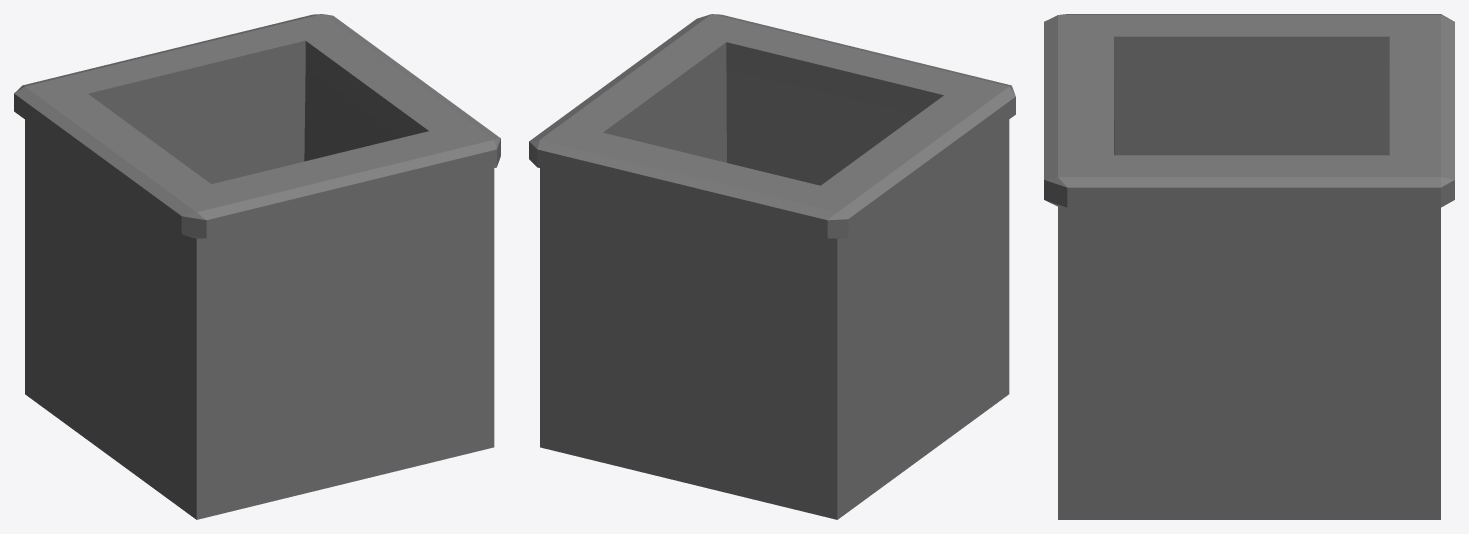
The model's file is Stone Wall 4.fbx.
3 renders of one model, left to right at view 1: azimuth 30°, elevation 25°; view 2: azimuth 150°, elevation 25°; view 3: azimuth 270°, elevation 25°, orthographic. The views are drawn at different scales.
Parts seen in each view (by area): view 1: Stone_Wall_4; view 2: Stone_Wall_4; view 3: Stone_Wall_4.
Boxes of the visible parts, x1=… form: Stone_Wall_4: x1=14, y1=14, x2=500, y2=519; Stone_Wall_4: x1=529, y1=14, x2=1015, y2=519; Stone_Wall_4: x1=1044, y1=14, x2=1454, y2=519.
Bounding box in the file's own units: 4.4 × 4.05 × 4.4.
